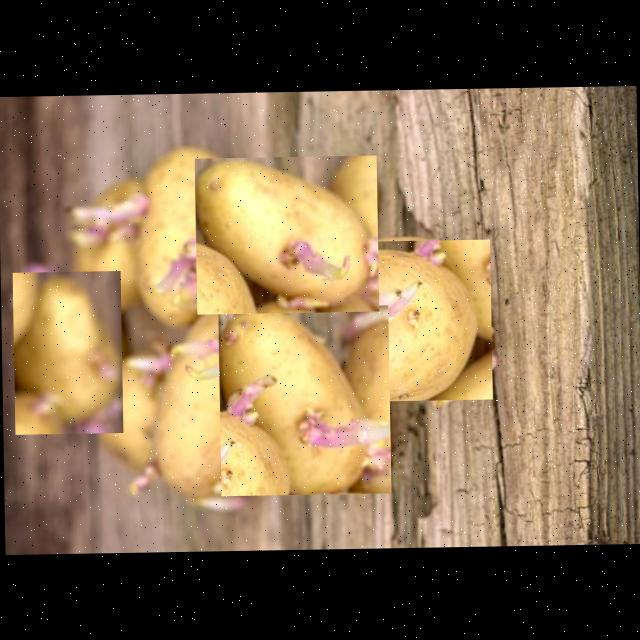Sprouted potato: (217, 305, 390, 496), (113, 301, 255, 530), (303, 239, 492, 402), (81, 140, 236, 336), (193, 155, 378, 314), (11, 270, 122, 434)
